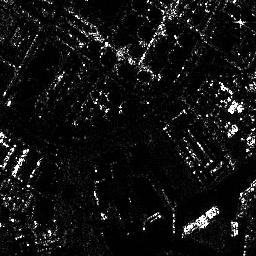ship: (182, 204, 220, 235)
